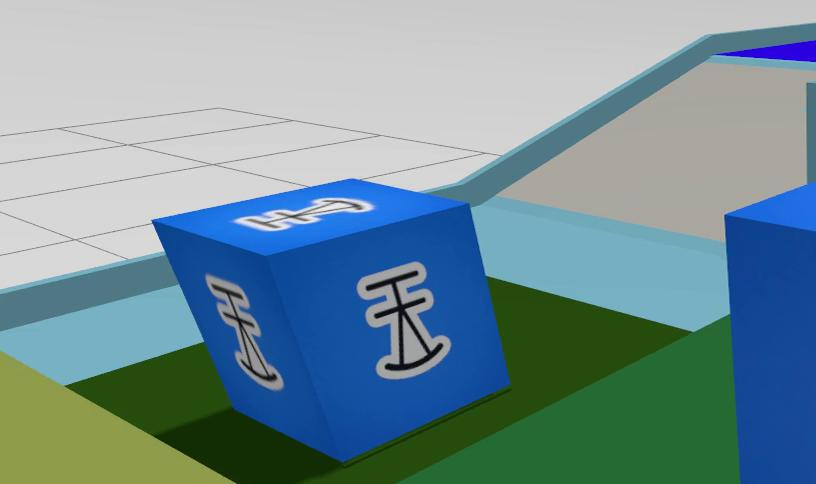KFS_REAL: (153, 179, 509, 459), (724, 181, 816, 484), (357, 263, 449, 379)
